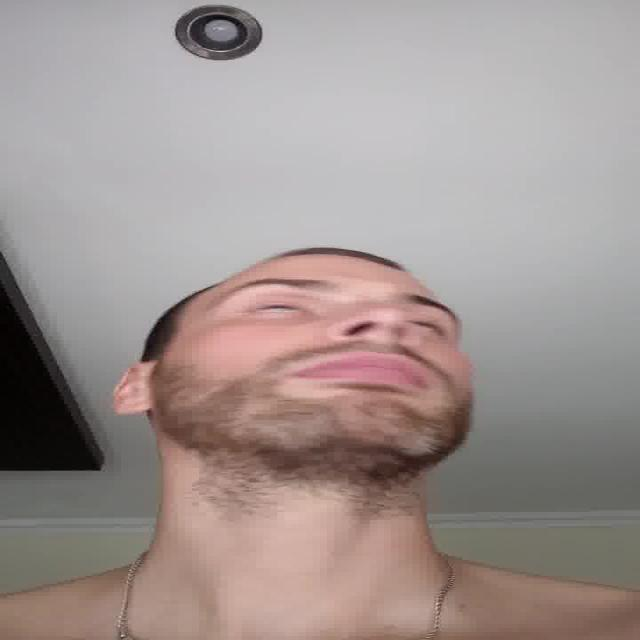earlobe: (114, 362, 150, 414)
